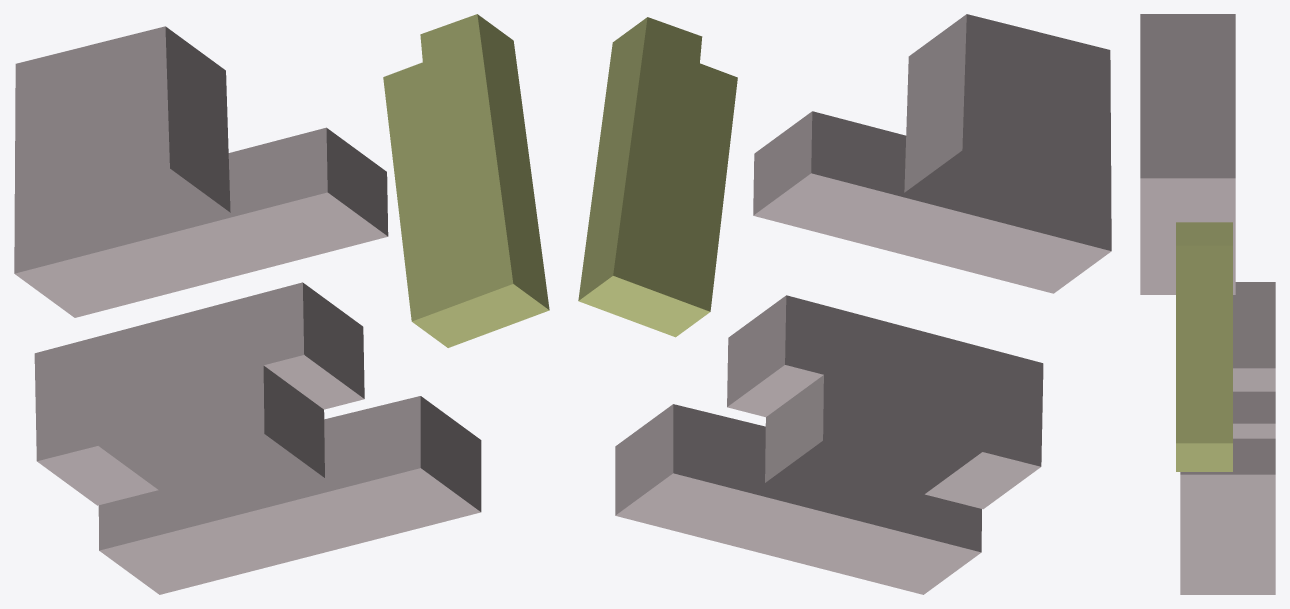
The picture shows the model from 3 angles, left to right: view 1: azimuth 30°, elevation 25°; view 2: azimuth 150°, elevation 25°; view 3: azimuth 270°, elevation 25°; orthographic projection. The views are drawn at different scales.
Parts seen in each view (by area): view 1: 0_0_3_2_0_2_1_1; view 2: 0_0_3_2_0_2_1_1; view 3: 0_0_3_2_0_2_1_1.
Boxes of the visible parts, <box> form: 0_0_3_2_0_2_1_1: <box>14,14,549,594</box>; 0_0_3_2_0_2_1_1: <box>578,14,1111,594</box>; 0_0_3_2_0_2_1_1: <box>1140,14,1275,594</box>.
Size of the model in its own units: 71.16 by 72.87 by 21.3.
